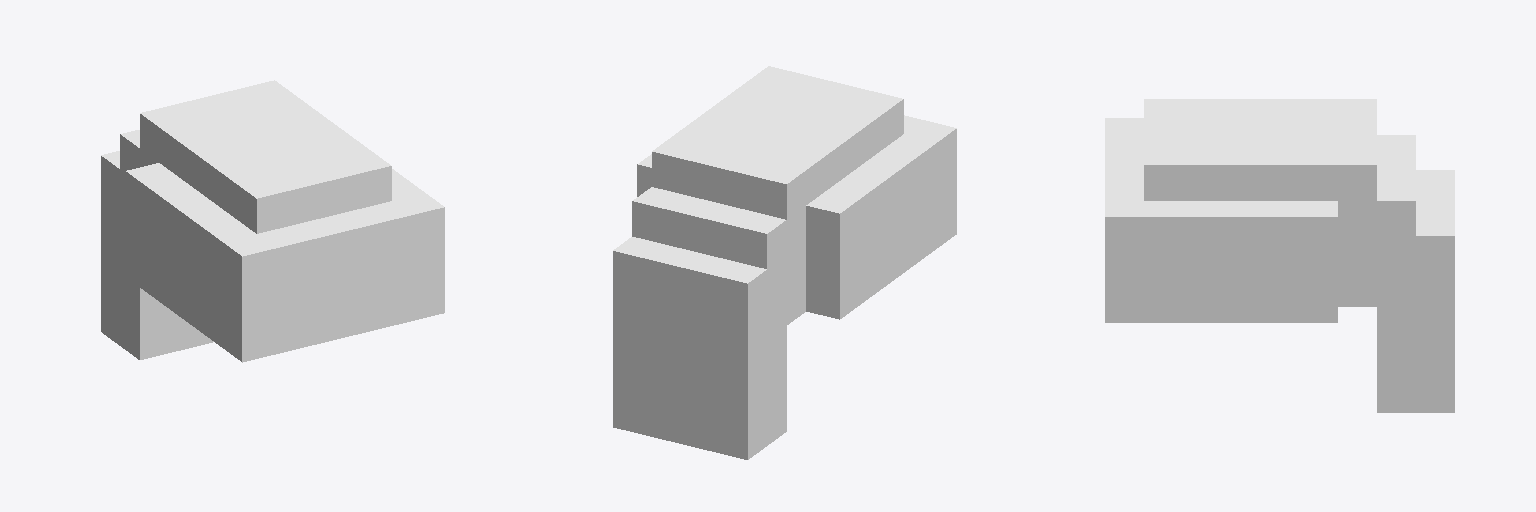
Rendered from alex.obj.
The picture shows the model from 3 angles: view 1: azimuth 30°, elevation 25°; view 2: azimuth 150°, elevation 25°; view 3: azimuth 270°, elevation 25°; orthographic projection.
Parts seen in each view (by area): view 1: object 1; view 2: object 1; view 3: object 1.
Boxes of the visible parts, box(x1,y1,x2,y2) form: object 1: box(101, 80, 444, 362); object 1: box(613, 66, 956, 459); object 1: box(1105, 99, 1454, 412).
Bounding box in the file's own units: 0.6 × 0.7 × 0.9.